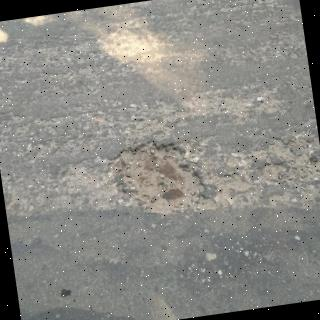pothole: (111, 141, 208, 217)
